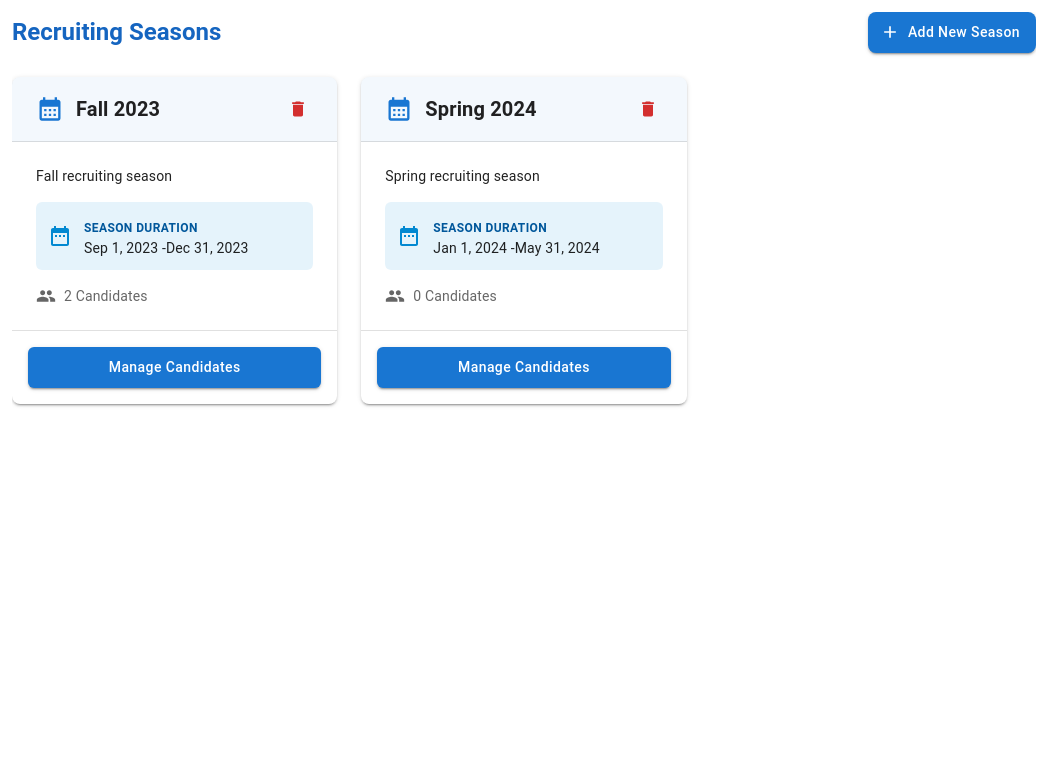
Test: RecruitingSeasonManagement › handles season deletion
// Find and click delete button
Click the button named "Delete Season" next to "Fall 2023": (298, 108) x1=283 y1=94 x2=313 y2=124
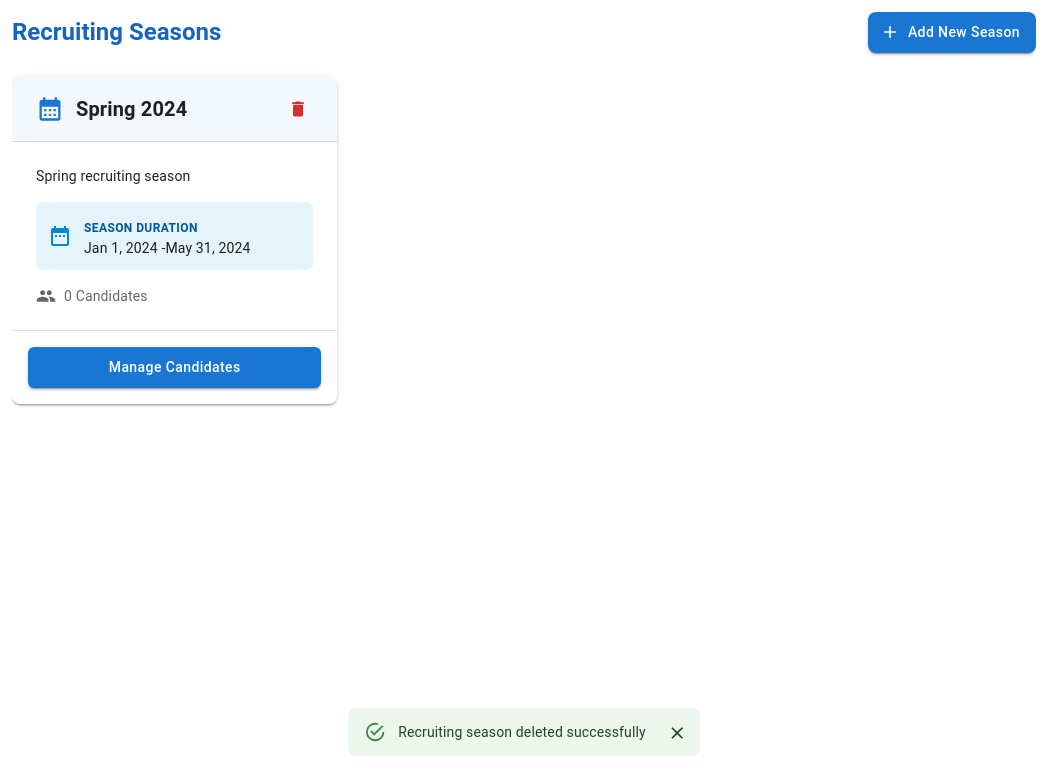
Expected: the text "Recruiting season deleted successfully" is shown, x1=398 y1=724 x2=646 y2=740
